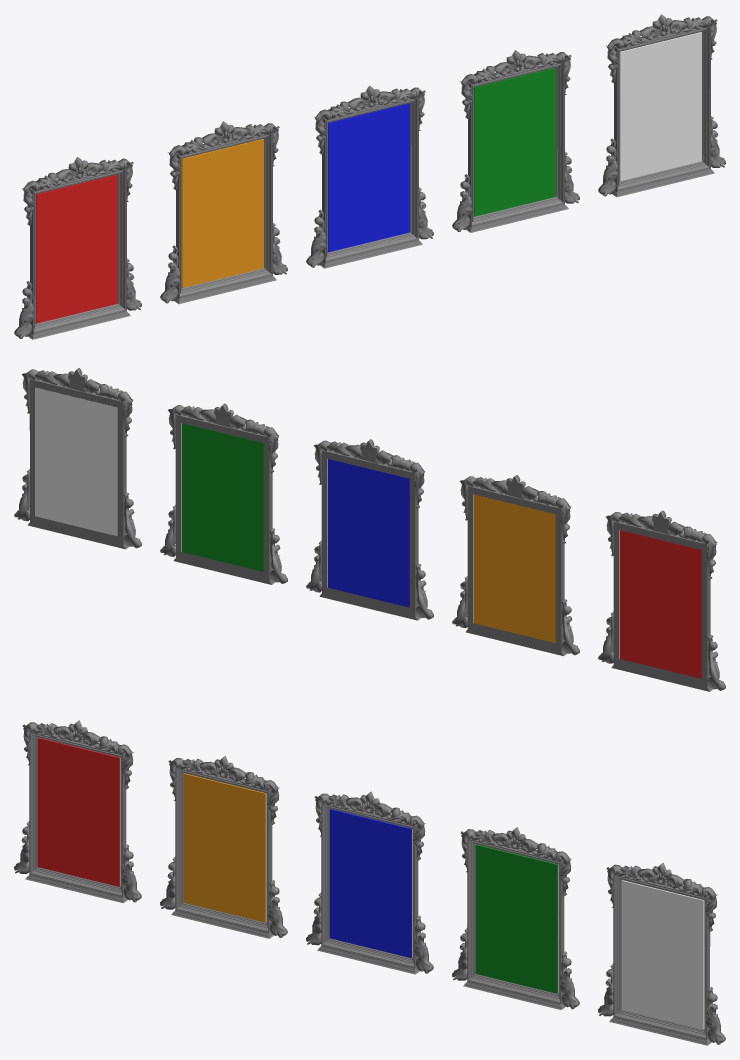
3 views of the same model, one above another, from view 1: azimuth 30°, elevation 25°; view 2: azimuth 150°, elevation 25°; view 3: azimuth 330°, elevation 25° (orthographic).
Visible parts, largest first — view 1: Hua005, Hua004, Hua001, Hua003, Hua002, Huakuang003, Huakuang005, Huakuang002, Huakuang001, Huakuang004; view 2: Hua001, Hua002, Hua004, Hua003, Hua005, Huakuang002, Huakuang003, Huakuang004, Huakuang001, Huakuang005; view 3: Hua004, Hua002, Hua003, Hua005, Hua001, Huakuang003, Huakuang001, Huakuang002, Huakuang004, Huakuang005.
Part boxes in pixels (x1,y1,x2,y2): Hua005: (619,32,701,180); Hua004: (473,67,555,216); Hua001: (36,174,117,323); Hua003: (328,103,409,252); Hua002: (182,139,263,287); Huakuang003: (306,85,433,268); Huakuang005: (598,14,725,197); Huakuang002: (160,121,287,304); Huakuang001: (14,156,141,339); Huakuang004: (452,50,579,232); Hua001: (620,530,701,678); Hua002: (474,494,555,643); Hua004: (182,423,263,571); Hua003: (328,459,409,607); Hua005: (36,387,117,536); Huakuang002: (452,475,579,656); Huakuang003: (306,439,433,620); Huakuang004: (160,403,287,584); Huakuang001: (598,510,725,691); Huakuang005: (14,368,141,549); Hua004: (475,844,557,993); Hua002: (183,773,265,922); Hua003: (329,809,411,958); Hua005: (621,880,703,1029); Hua001: (37,738,119,886); Huakuang003: (306,791,433,974); Huakuang001: (14,720,141,903); Huakuang002: (160,756,287,938); Huakuang004: (452,827,579,1009); Huakuang005: (598,863,725,1045).
Size of the model in its own units: 2605 by 589 by 36.81.
